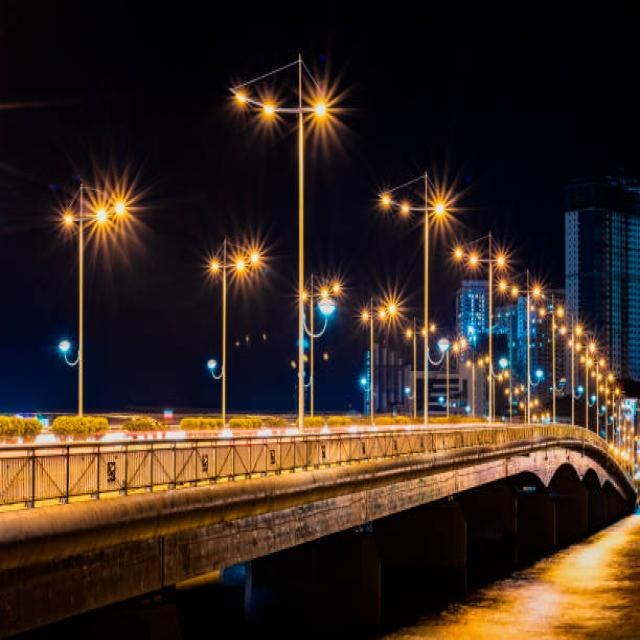acesa: (61, 154, 158, 272), (295, 66, 359, 156), (416, 167, 472, 239), (222, 79, 284, 136), (225, 226, 278, 292), (368, 278, 414, 332), (490, 247, 514, 278)
